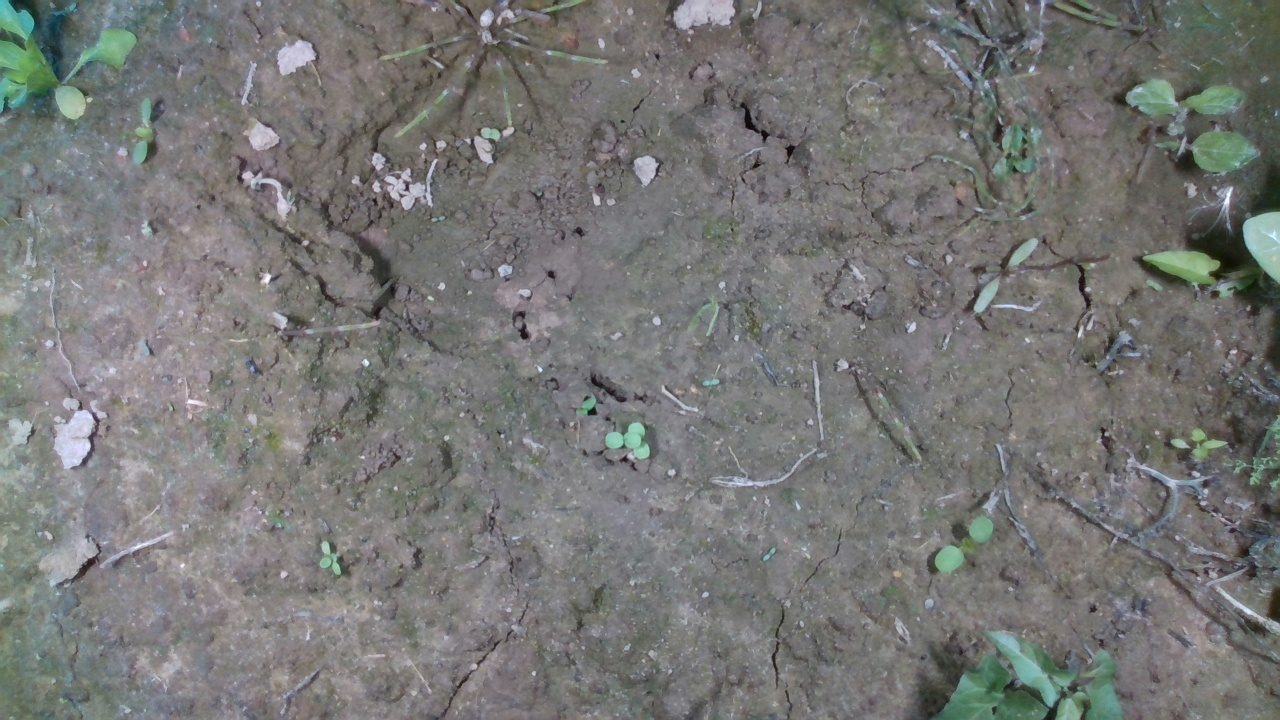weed: (972, 235, 1039, 314), (934, 515, 995, 573), (1167, 425, 1228, 459), (308, 536, 352, 579), (130, 95, 154, 166)
